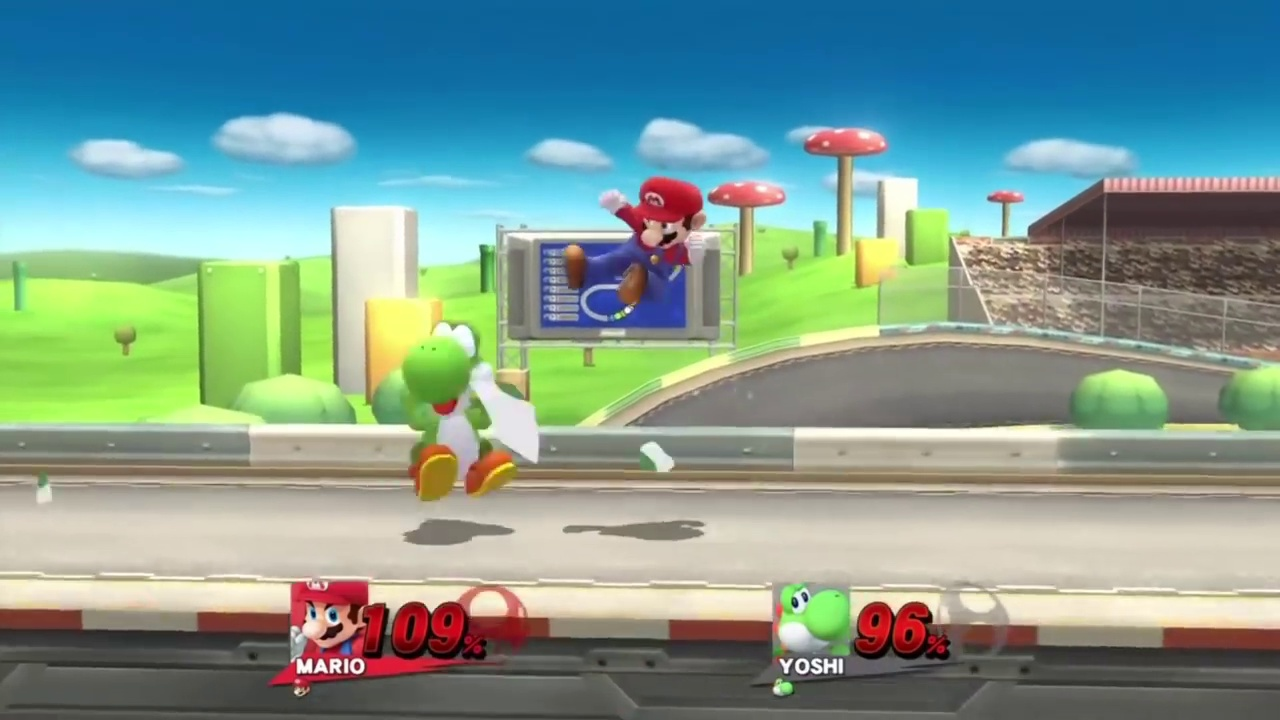Mario: (565, 177, 707, 307)
